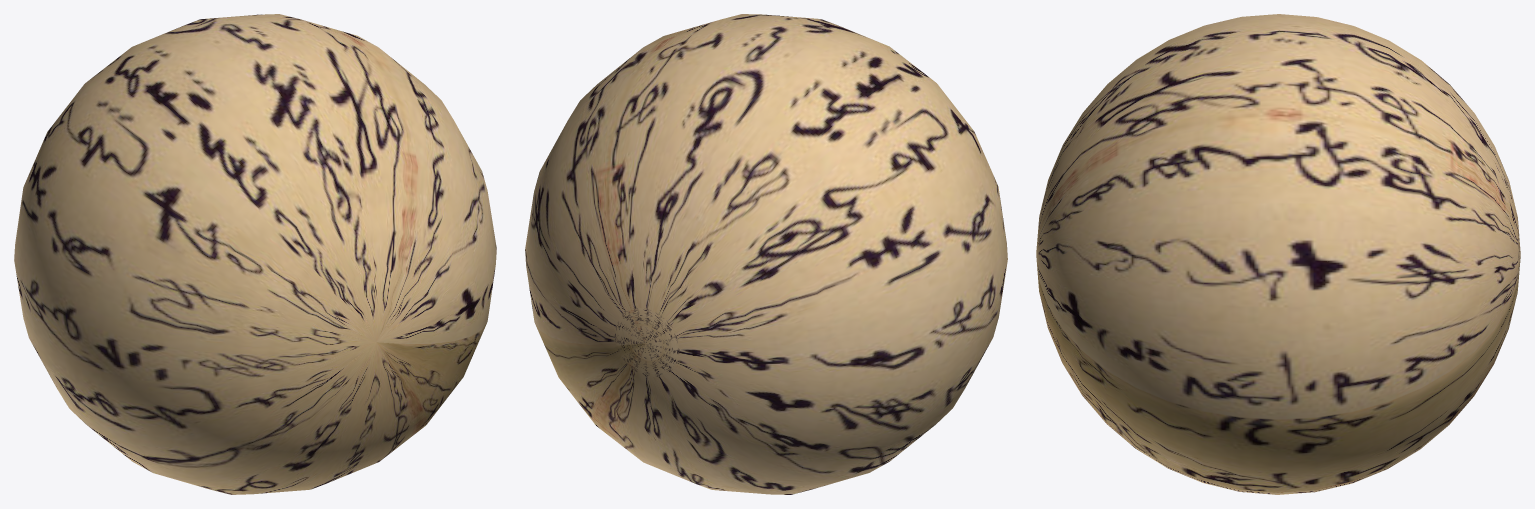
Rendered from test materil.glb.
3 renders of one model, left to right at view 1: azimuth 30°, elevation 25°; view 2: azimuth 150°, elevation 25°; view 3: azimuth 270°, elevation 25°, orthographic.
Size of the model in its own units: 2 by 2 by 2.
1 material, 1 textured.
